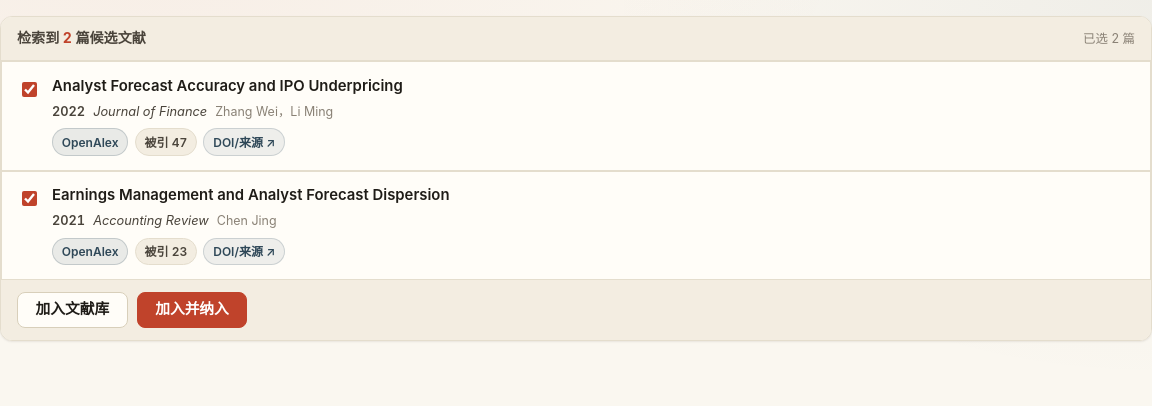
Scenario: SearchCandidateCards › skipped > 0 时显示跳过数提示
This screenshot has width=1152, height=406.
Click the button "加入文献库" at coordinates (72, 310), box [17,292,128,328]
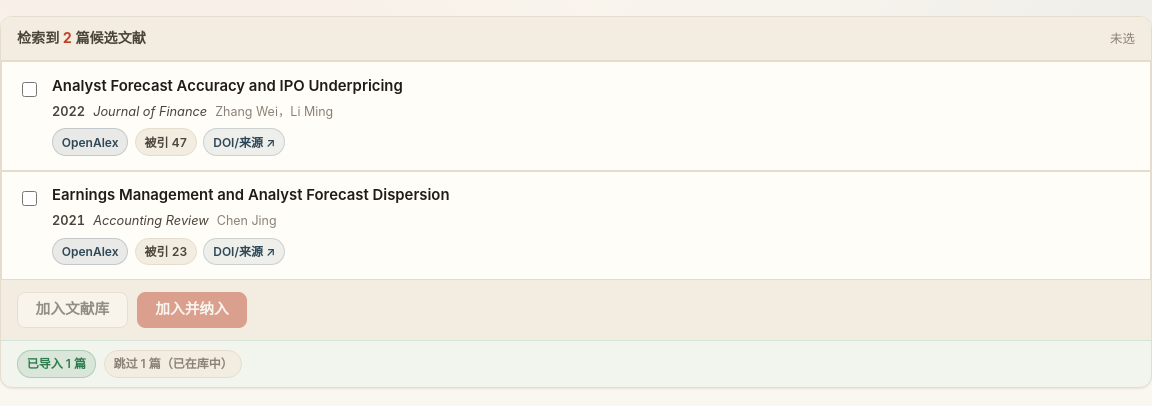
expect the text "跳过 1 篇（已在库中）" is shown: met, box [104,350,242,378]
